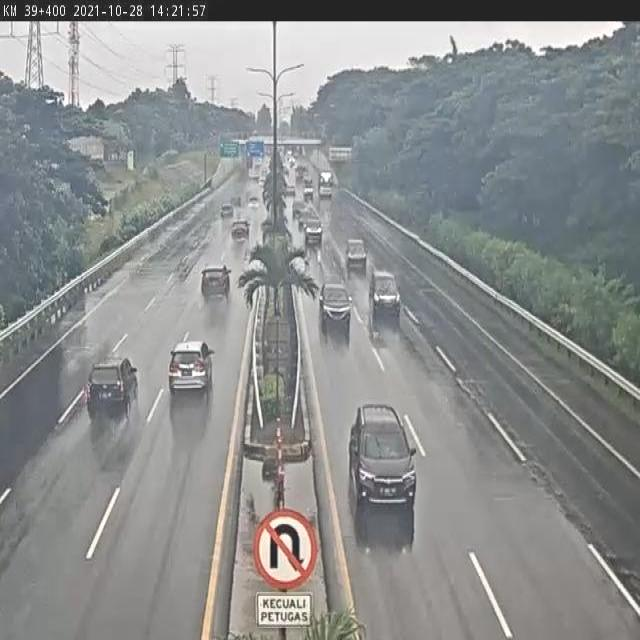Car: (348, 404, 418, 519), (86, 356, 139, 420), (168, 339, 216, 400), (317, 281, 353, 343), (368, 268, 402, 333), (200, 265, 232, 305), (345, 238, 367, 272), (302, 214, 323, 246), (230, 218, 250, 240), (292, 200, 306, 219), (220, 203, 233, 218), (283, 182, 295, 196), (303, 186, 314, 200), (250, 170, 260, 181), (258, 175, 265, 187)
